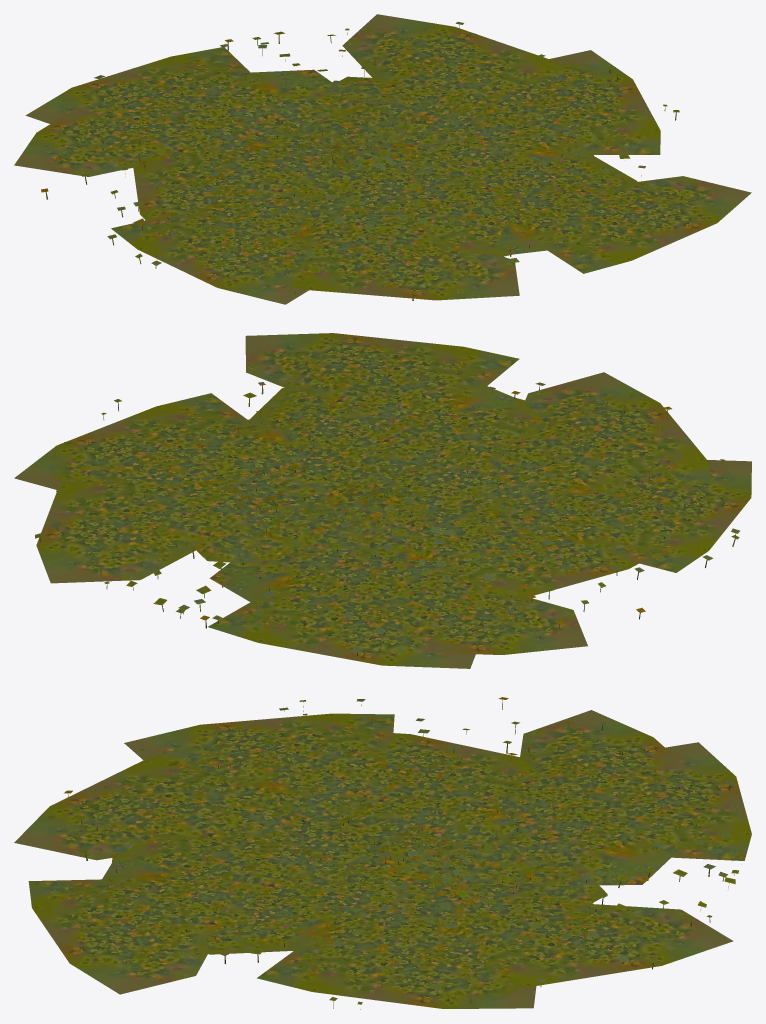
File: Clover_01_Var4.FBX
The picture shows the model from 3 angles, top to bottom: view 1: azimuth 30°, elevation 25°; view 2: azimuth 150°, elevation 25°; view 3: azimuth 270°, elevation 25°; orthographic projection. The views are drawn at different scales.
Parts seen in each view (by area): view 1: Clovers_01_Var4_Lod0; view 2: Clovers_01_Var4_Lod0; view 3: Clovers_01_Var4_Lod0.
Part boxes in pixels (bbox=[...]): Clovers_01_Var4_Lod0: bbox=[14, 14, 751, 304]; Clovers_01_Var4_Lod0: bbox=[14, 333, 751, 668]; Clovers_01_Var4_Lod0: bbox=[14, 697, 751, 1009].
Size of what is drawn, in the model's own units: 185 by 3.51 by 189.
